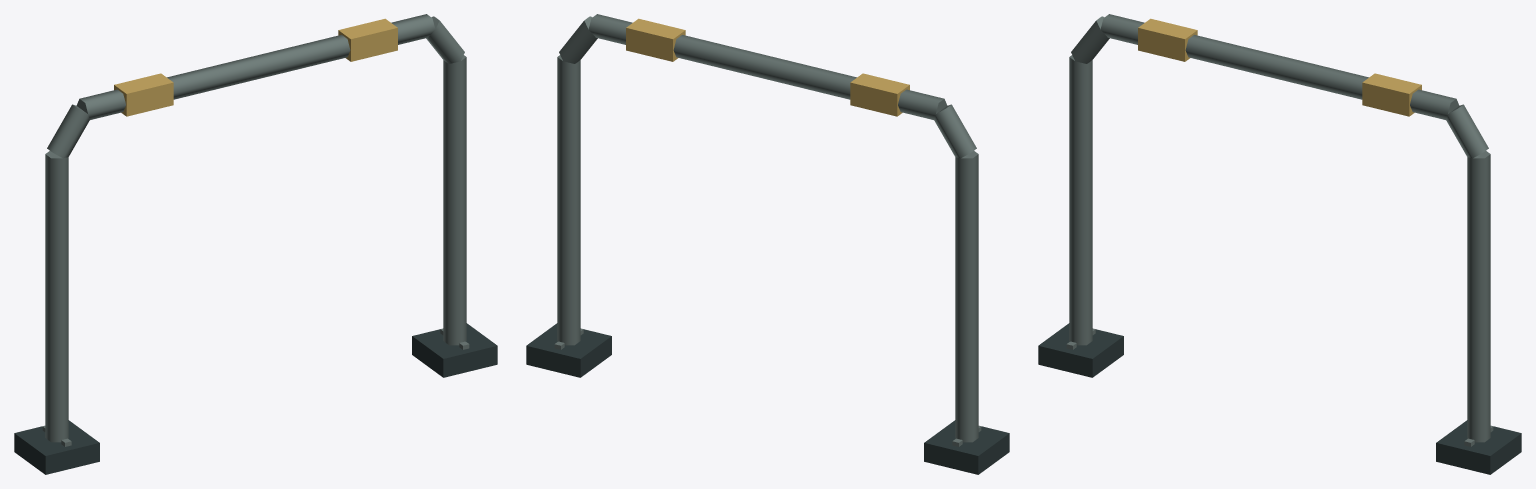
3 views of the same model, side by side, from view 1: azimuth 30°, elevation 25°; view 2: azimuth 150°, elevation 25°; view 3: azimuth 330°, elevation 25° (orthographic).
Visible parts, largest first — view 1: part-1, part-5, part-3, part-9, part-6, part-12, part-13, part-2, part-4; view 2: part-1, part-5, part-3, part-9, part-6, part-12, part-13, part-2, part-4; view 3: part-5, part-1, part-3, part-6, part-9, part-13, part-12, part-4, part-2.
Boxes of the visible parts, x1,y1,x2,y2 form: part-1: (45,151,68,442); part-5: (443,55,466,345); part-3: (76,14,435,119); part-9: (412,323,497,377); part-6: (14,420,99,474); part-12: (114,73,173,116); part-13: (338,18,397,61); part-2: (47,104,89,158); part-4: (426,16,464,63); part-1: (955,151,978,442); part-5: (557,55,580,345); part-3: (588,14,947,119); part-9: (526,323,611,377); part-6: (924,420,1009,474); part-12: (850,73,909,116); part-13: (626,18,685,61); part-2: (934,104,976,158); part-4: (559,16,597,63); part-5: (1467,151,1490,442); part-1: (1069,55,1092,345); part-3: (1100,14,1459,119); part-6: (1038,323,1123,377); part-9: (1436,420,1521,474); part-13: (1362,73,1421,116); part-12: (1138,18,1197,61); part-4: (1446,104,1488,158); part-2: (1071,16,1109,63).
Size of the model in its own units: 1.25 by 0.93 by 0.15.
